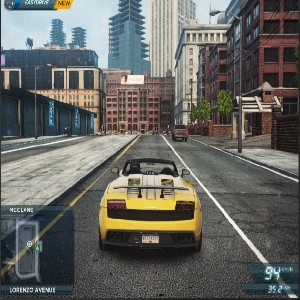building: (15, 28, 105, 143), (112, 4, 193, 81), (180, 16, 230, 130), (102, 66, 173, 135)
lamp post: (209, 7, 255, 156), (33, 58, 59, 140)
mailbox: (62, 125, 72, 136)
tree: (189, 96, 210, 135), (213, 89, 234, 125)
vehicle: (170, 123, 189, 143)
